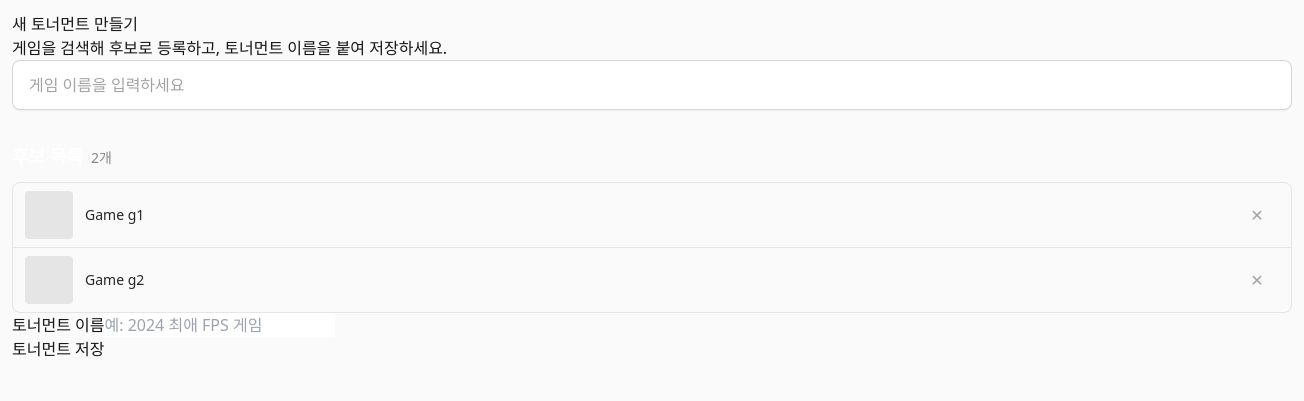
Test: CreatePage (Task #116, 토너먼트 생성) › createTournament 에러 시 에러 메시지가 표시된다
Step 1. Type "내 토너먼트" into the field labelled "토너먼트 이름" → (220, 325), box [104,313,336,337]
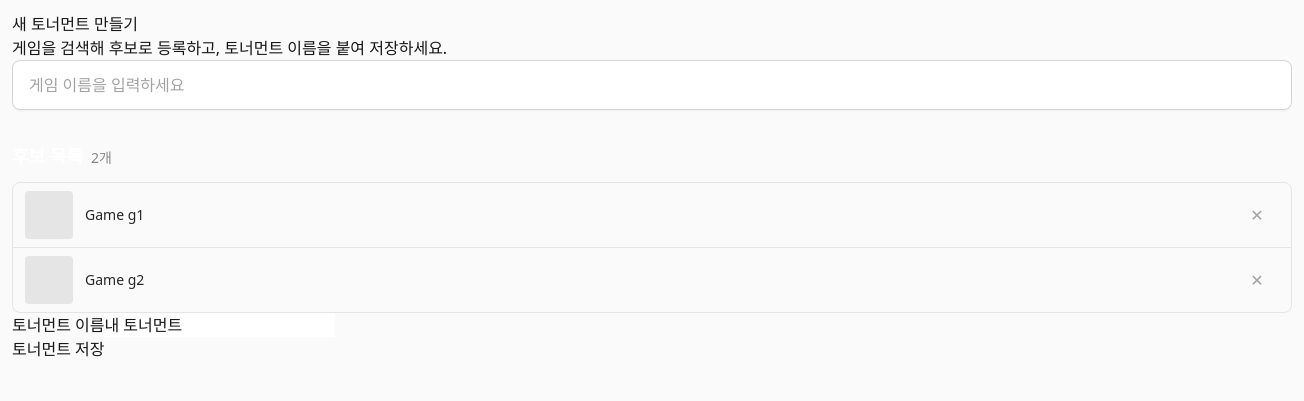
Step 2. Click the button "토너먼트 저장" → click(58, 349), box [12,337,104,361]
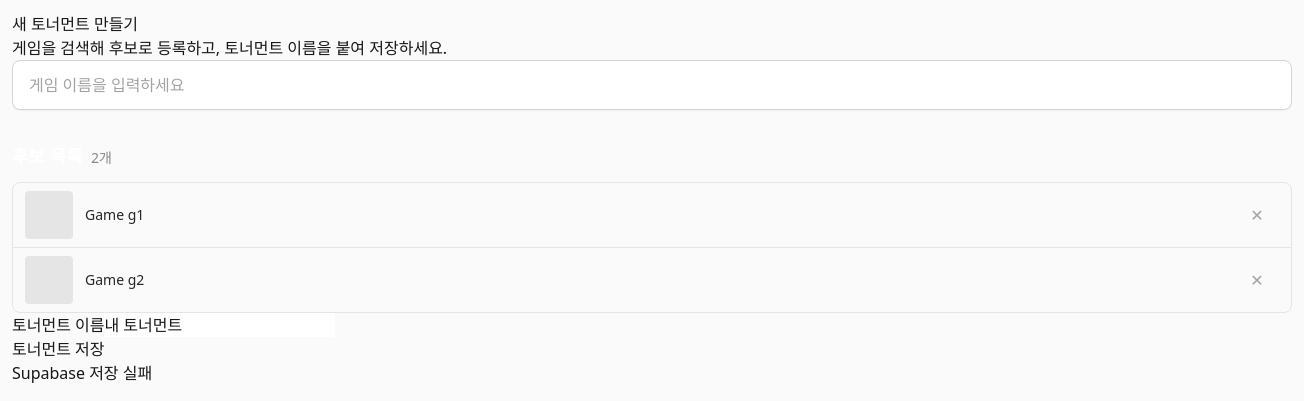
Now the message reads "Supabase 저장 실패", box [12,362,152,384]
